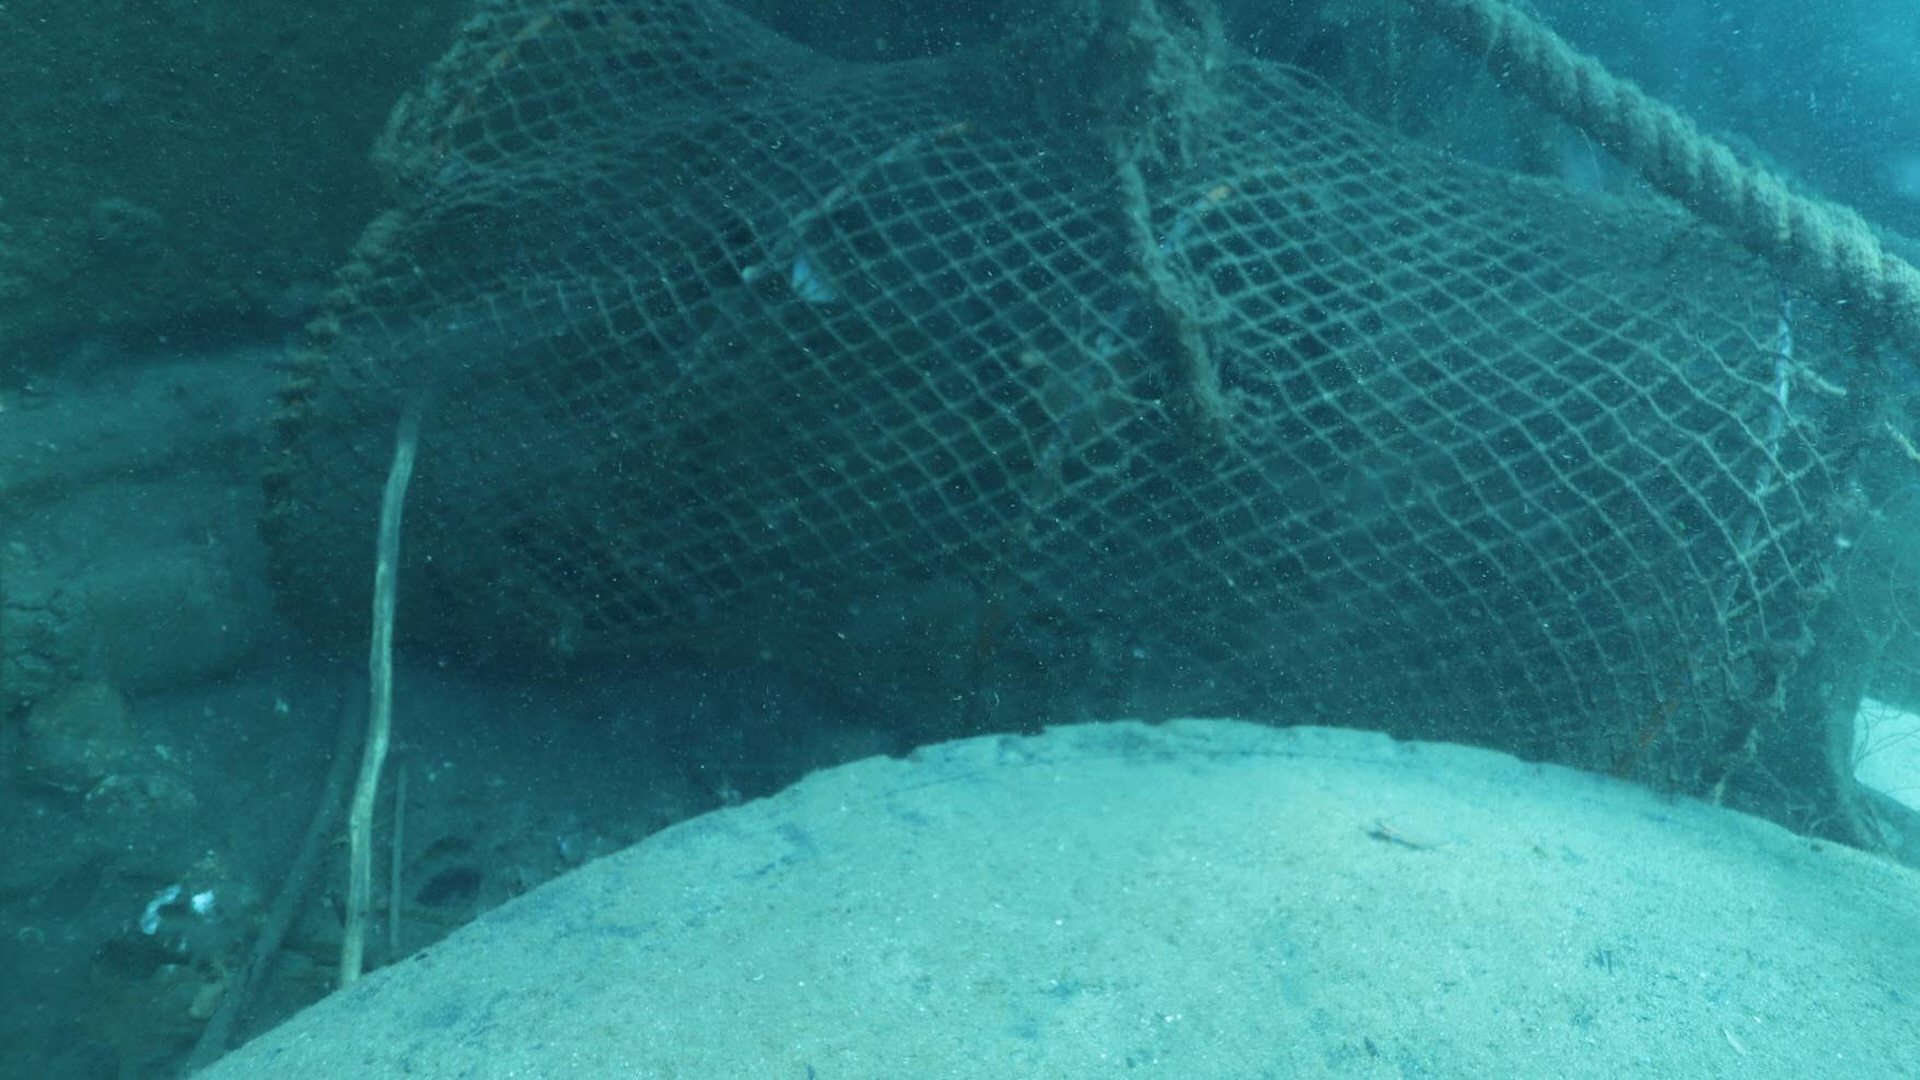spring fish trap: (258, 0, 1896, 806)
